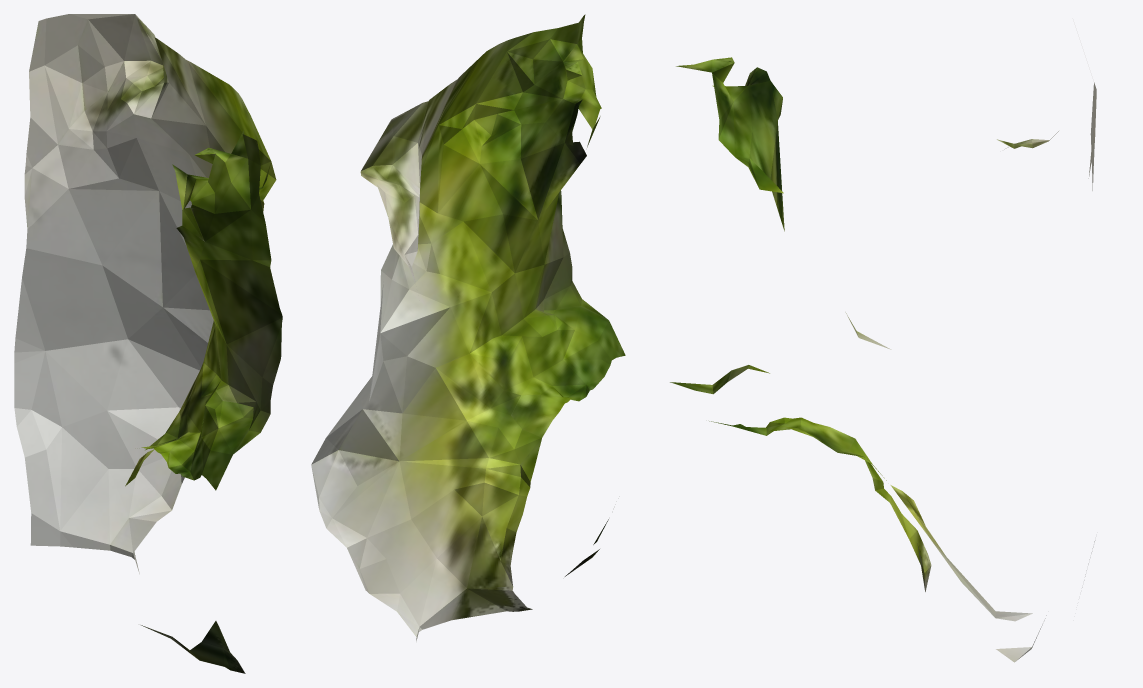
The picture shows the model from 3 angles, left to right: view 1: azimuth 30°, elevation 25°; view 2: azimuth 150°, elevation 25°; view 3: azimuth 270°, elevation 25°; orthographic projection. The views are drawn at different scales.
Size of the model in its own units: 0.5781 by 1.67 by 1.16.
Materials: 2 (2 with a texture image).
